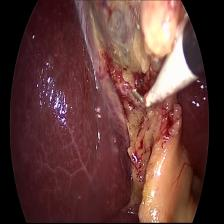Hook: (130, 28, 198, 109)
